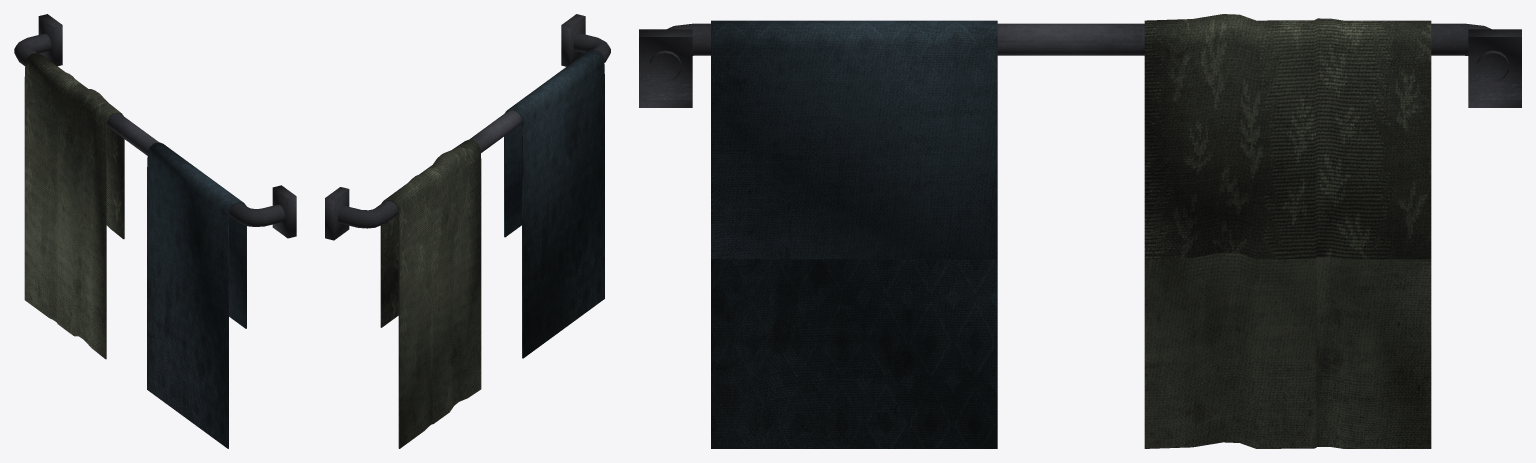
The model's file is FPH_BathTowel.fbx.
The picture shows the model from 3 angles, left to right: view 1: azimuth 30°, elevation 25°; view 2: azimuth 150°, elevation 25°; view 3: azimuth 270°, elevation 25°; orthographic projection. The views are drawn at different scales.
Visible parts, largest first — view 1: FPH_BathTowel; view 2: FPH_BathTowel; view 3: FPH_BathTowel.
Boxes of the visible parts, box(x1,y1,x2,y2) form: FPH_BathTowel: box(14, 14, 296, 448); FPH_BathTowel: box(325, 14, 610, 448); FPH_BathTowel: box(639, 14, 1521, 448).
Bounding box in the file's own units: 0.7747 × 3.91 × 6.9.
1 material, 1 textured.
